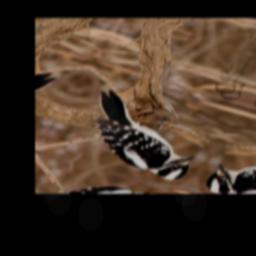Woodpecker: (59, 85, 222, 184)
